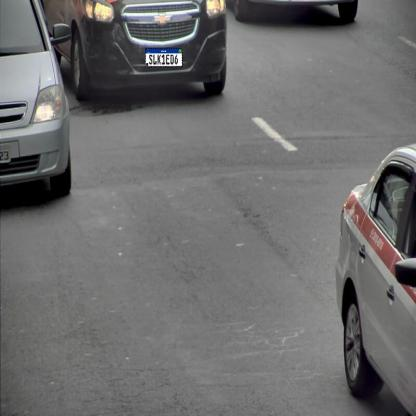PlacaM: (145, 48, 183, 67)
